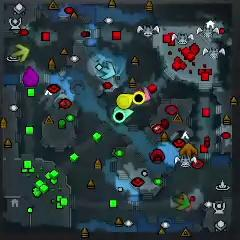p2: (113, 106, 134, 121)
p2Clone: (113, 110, 125, 123)
p3: (24, 66, 39, 86)
p4: (117, 94, 135, 109)
p4Clone: (133, 91, 145, 104)
x1: (138, 86, 150, 102)
x2: (12, 44, 30, 61)
x3: (98, 61, 116, 79)
x4: (173, 193, 190, 210)
x5: (180, 143, 197, 158)
